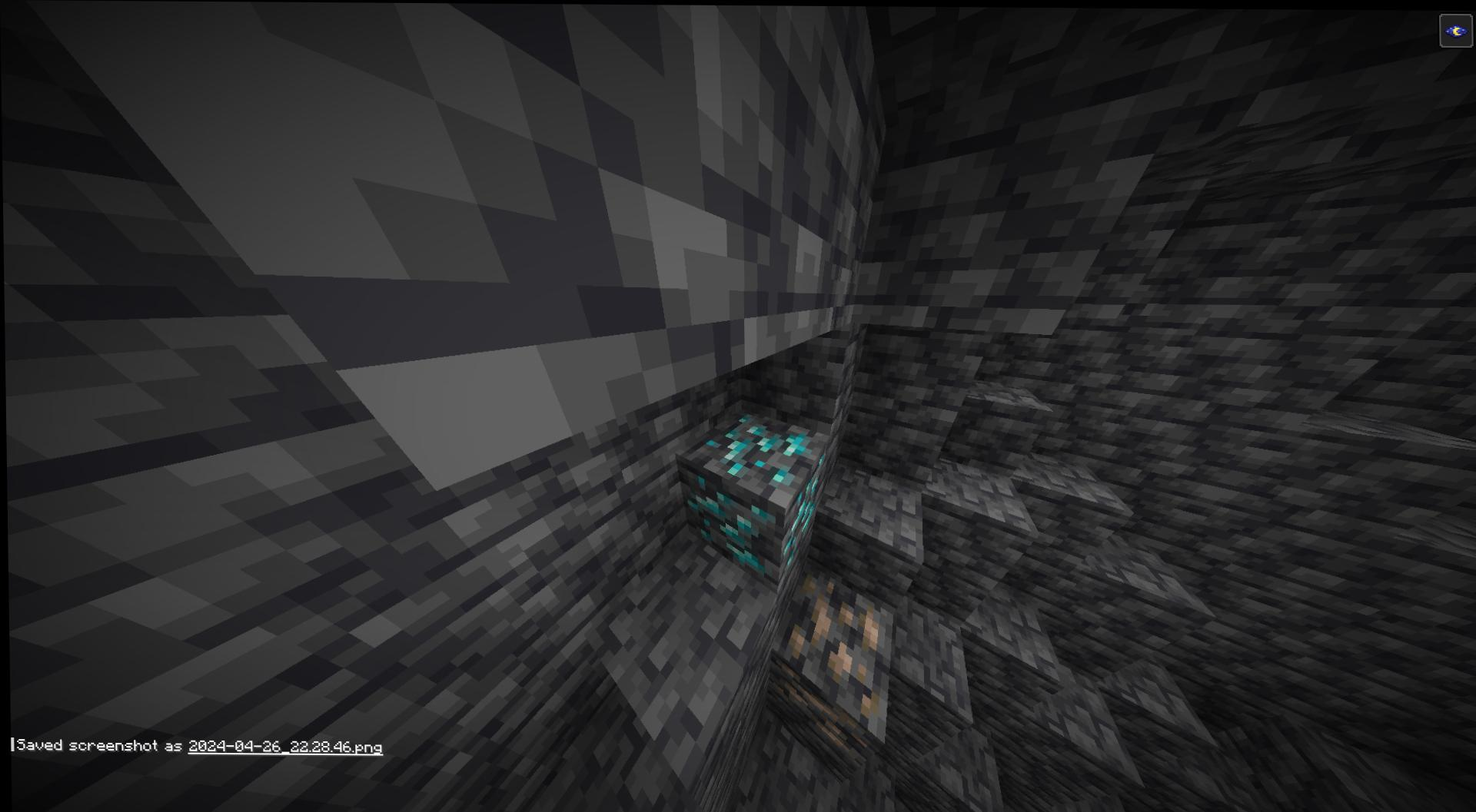diamond ore: (684, 418, 833, 572)
iron ore: (773, 570, 890, 718)
